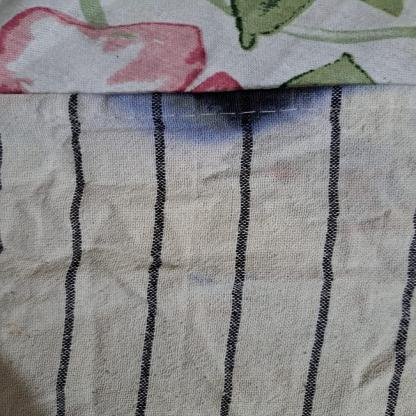spot: (98, 92, 271, 140), (230, 92, 309, 118), (304, 84, 388, 105), (187, 266, 223, 290), (243, 272, 265, 304)
